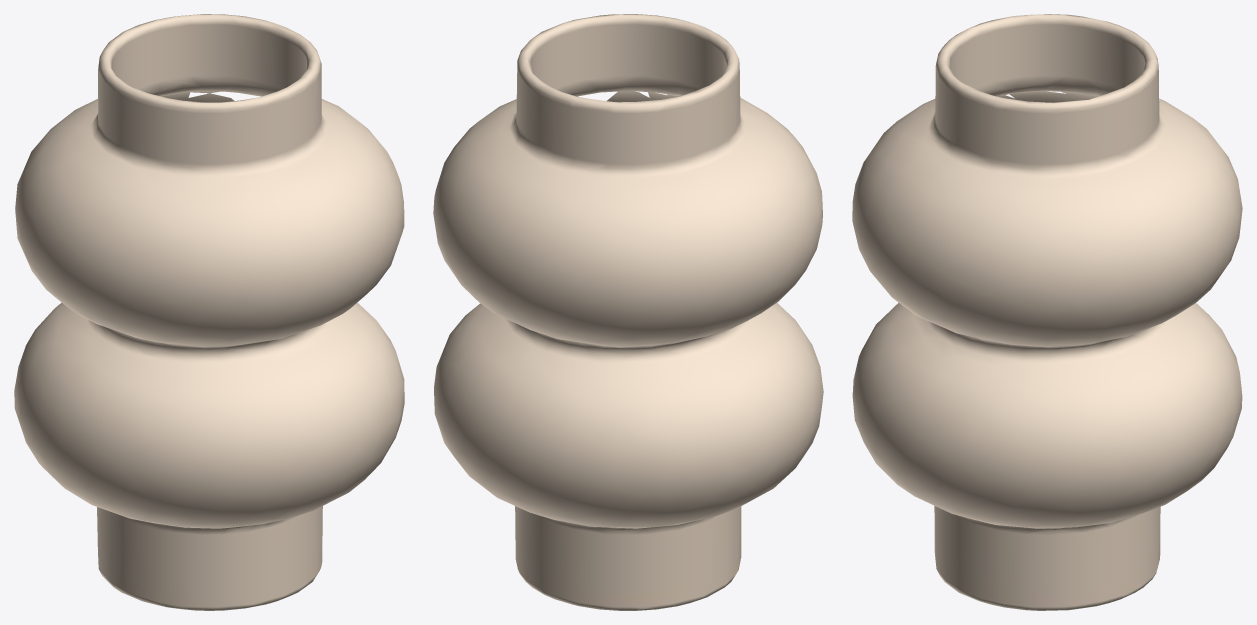
Rendered from LB-VASE-02.glb.
3 views of the same model, side by side, from view 1: azimuth 30°, elevation 25°; view 2: azimuth 150°, elevation 25°; view 3: azimuth 270°, elevation 25° (orthographic).
Parts seen in each view (by area): view 1: ASY_ART_80623405_S01_NV01; view 2: ASY_ART_80623405_S01_NV01; view 3: ASY_ART_80623405_S01_NV01.
Boxes of the visible parts, x1=… form: ASY_ART_80623405_S01_NV01: x1=14, y1=14, x2=404, y2=610; ASY_ART_80623405_S01_NV01: x1=433, y1=14, x2=823, y2=610; ASY_ART_80623405_S01_NV01: x1=852, y1=14, x2=1242, y2=610.
Bounding box in the file's own units: 0.1483 × 0.2126 × 0.1484.
Materials: 2 (2 with a texture image).
